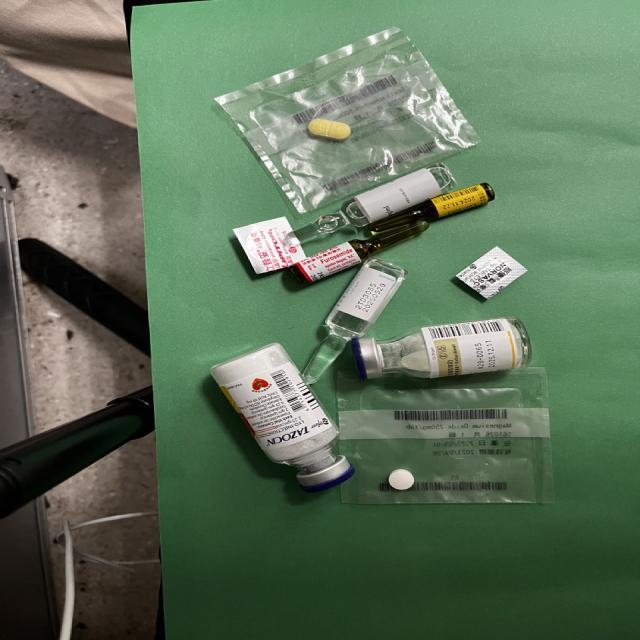Ampoules: (283, 164, 456, 246), (303, 257, 405, 384), (289, 220, 429, 284), (370, 183, 494, 233)
Vials: (211, 343, 353, 491), (350, 317, 531, 379)
